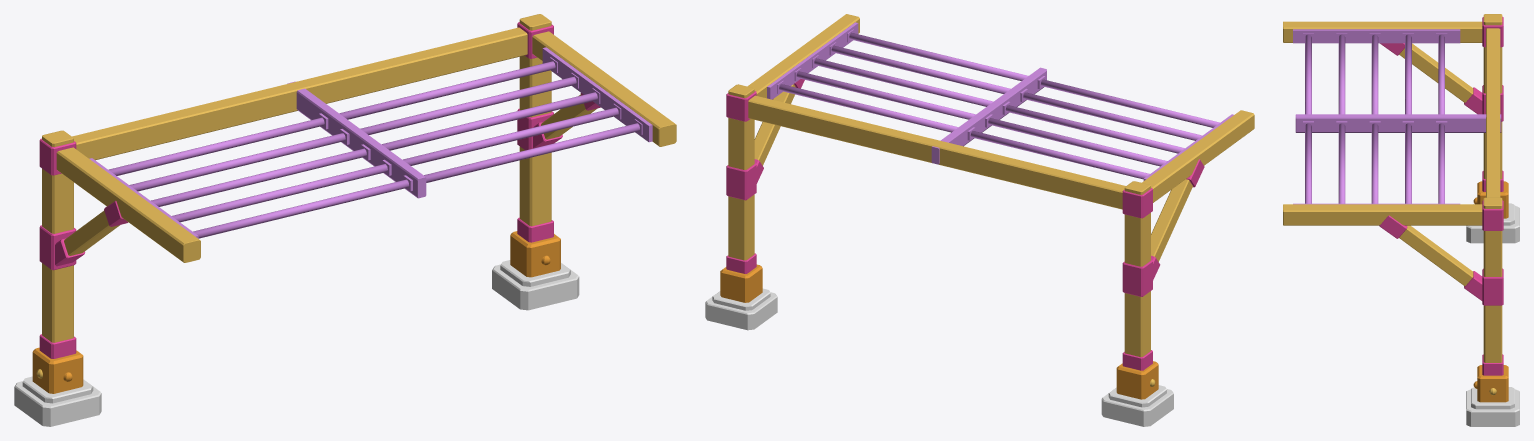
The model's file is Re_Boss3_Platform_Miiddle.fbx.
The picture shows the model from 3 angles, left to right: view 1: azimuth 30°, elevation 25°; view 2: azimuth 150°, elevation 25°; view 3: azimuth 270°, elevation 25°; orthographic projection. The views are drawn at different scales.
Parts seen in each view (by area): view 1: Bottom_Stone; view 2: Bottom_Stone; view 3: Bottom_Stone.
Part boxes in pixels (left/top/right/bottom): Bottom_Stone: left=14, top=14, right=676, bottom=426; Bottom_Stone: left=705, top=14, right=1254, bottom=426; Bottom_Stone: left=1283, top=14, right=1519, bottom=426.
Bounding box in the file's own units: 923 × 447 × 448.
